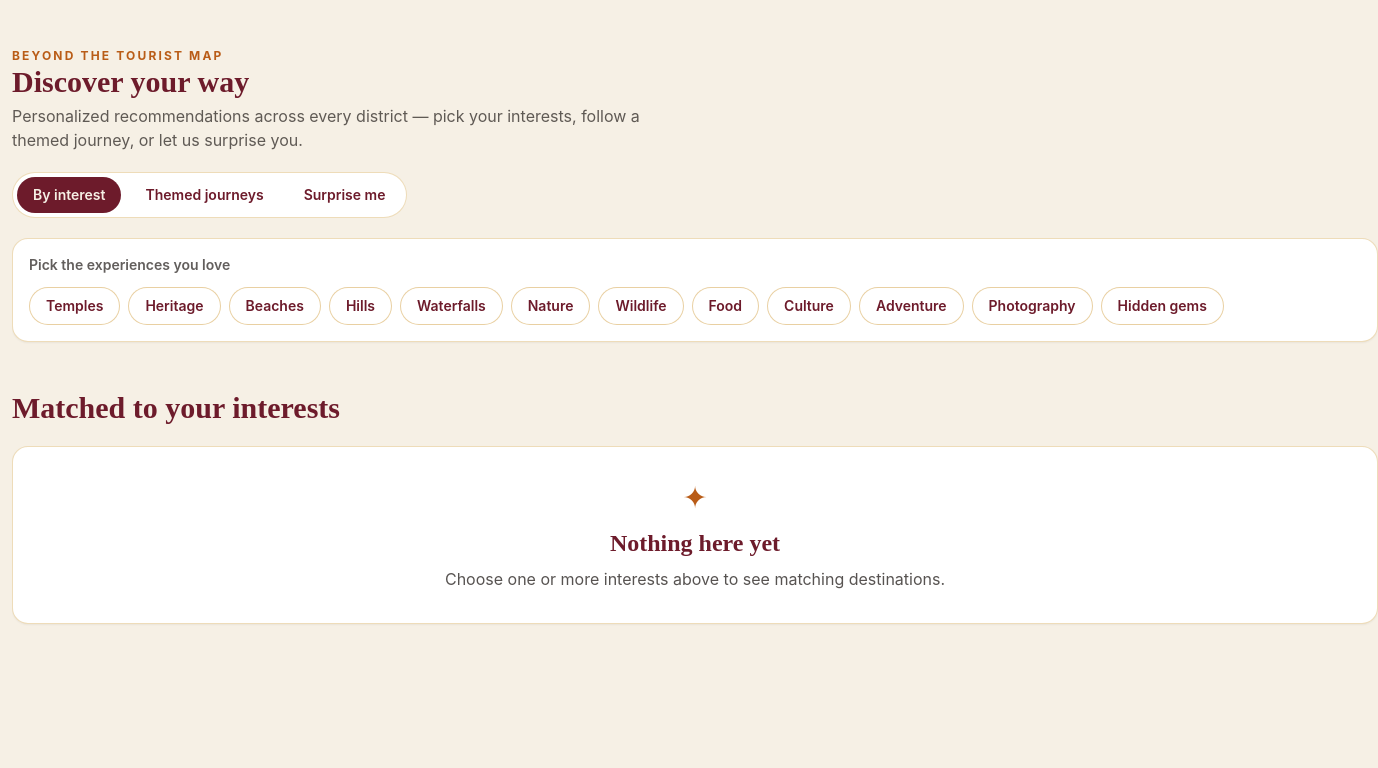
Test case: PersonalizedDiscovery › shows an error state with retry when the request fails
Click the button "Food". click: (725, 306)
box: [692,287,759,325]
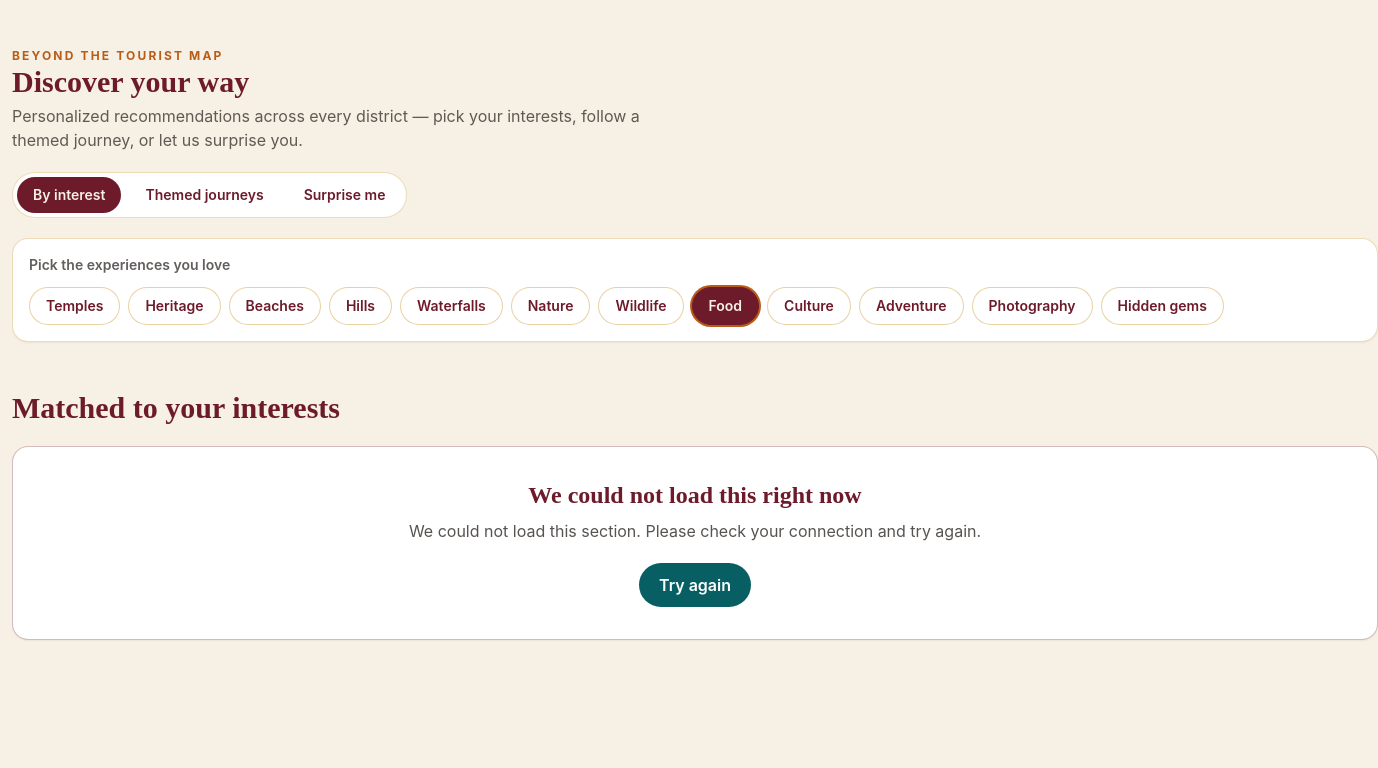
Check: the message is shown, box [12,446,1377,640]
Check: the button "Try again" is shown, box [639,563,751,607]
